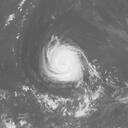cyclone: (39, 36, 89, 88)
